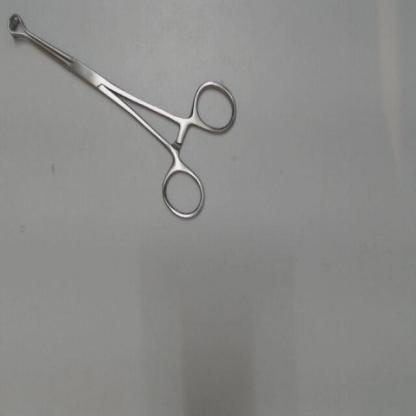Babcock Tissue Forceps: (3, 6, 243, 225)
